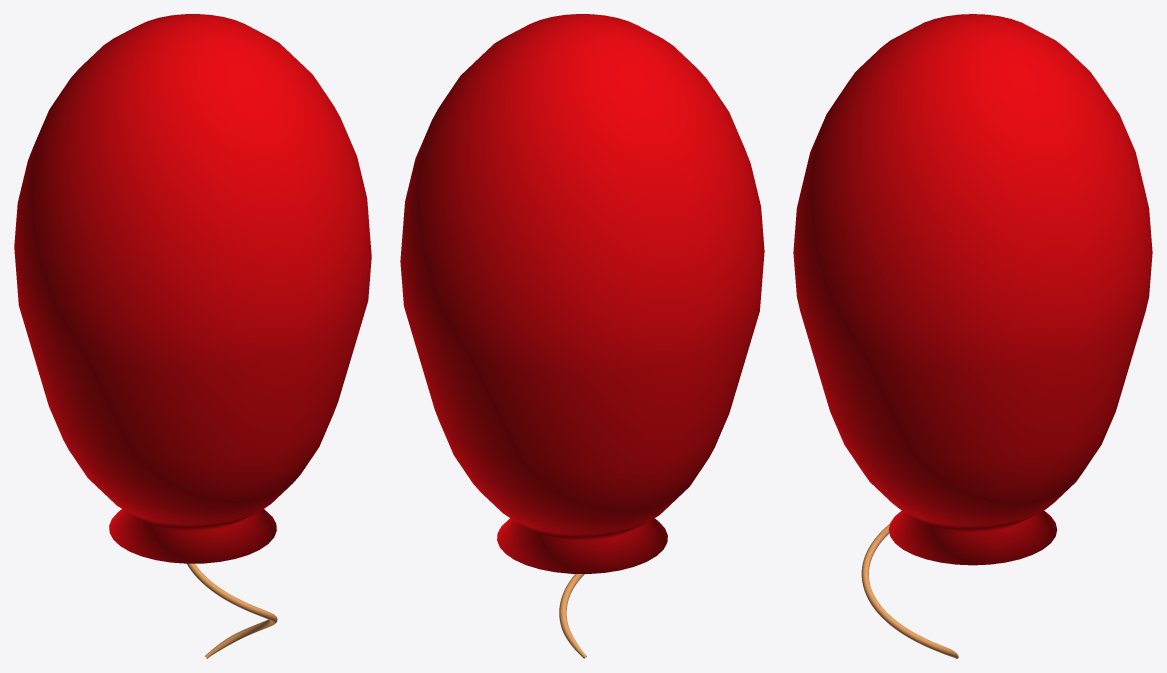
Rendered from balong.fbx.
3 views of the same model, side by side, from view 1: azimuth 30°, elevation 25°; view 2: azimuth 150°, elevation 25°; view 3: azimuth 270°, elevation 25° (orthographic).
Parts seen in each view (by area): view 1: Sphere; view 2: Sphere; view 3: Sphere.
Part boxes in pixels (box(x1,y1,x2,y2)): Sphere: box(14, 14, 371, 658); Sphere: box(400, 14, 764, 658); Sphere: box(793, 14, 1152, 658).
Size of the model in its own units: 395 by 764 by 395.
